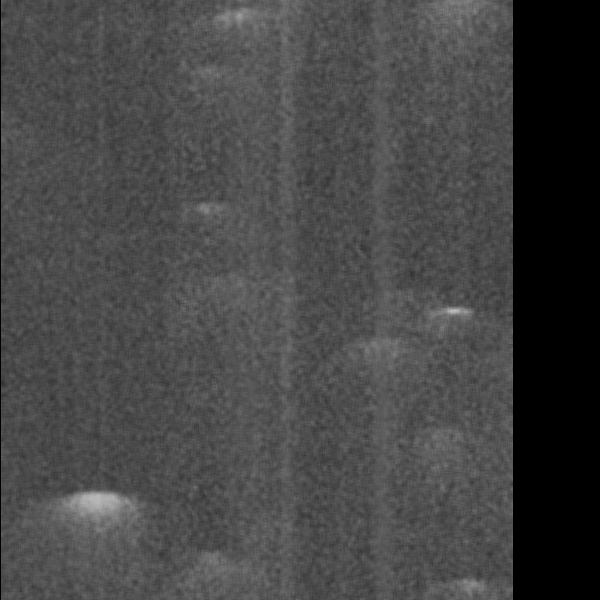spark: (413, 347, 453, 415), (118, 490, 167, 528), (212, 438, 248, 480), (174, 130, 211, 169), (185, 248, 215, 275)
